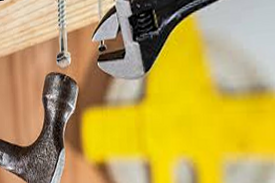Wrench: (90, 1, 255, 81)
